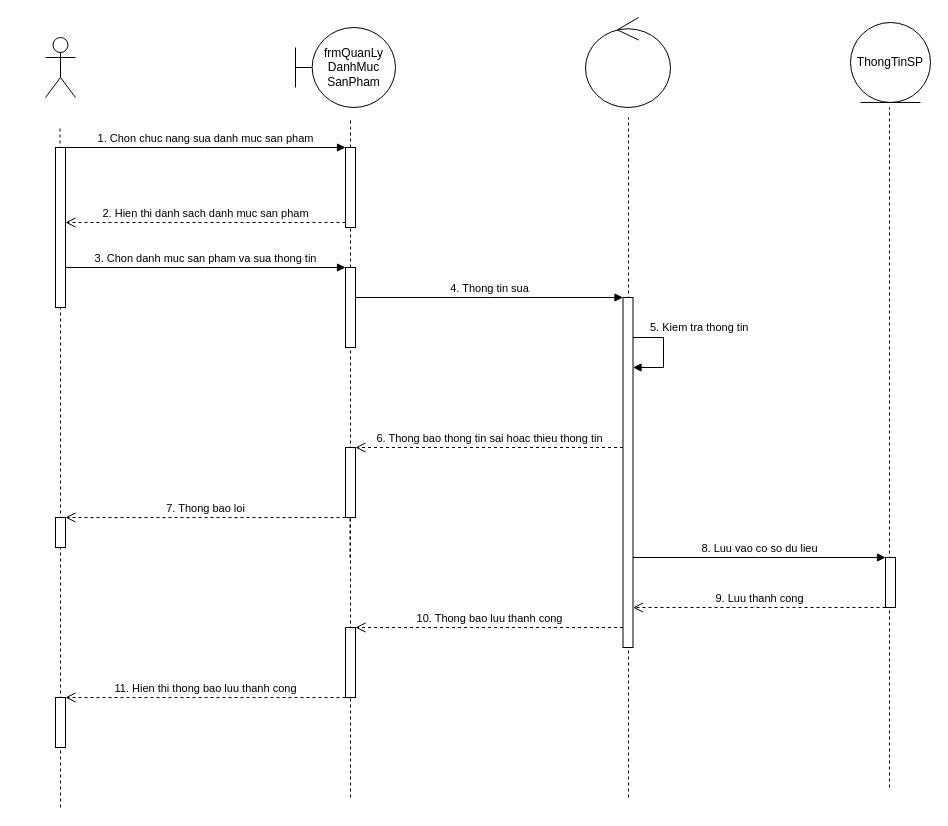
Some shapes in this 948 by 826 pixel diagram are drawn without their labels. Each missing label, with the box of its shape:
Bo phan quan ly: (44, 36, 76, 98)
ctrSuaDanh Muc: (584, 16, 670, 108)
